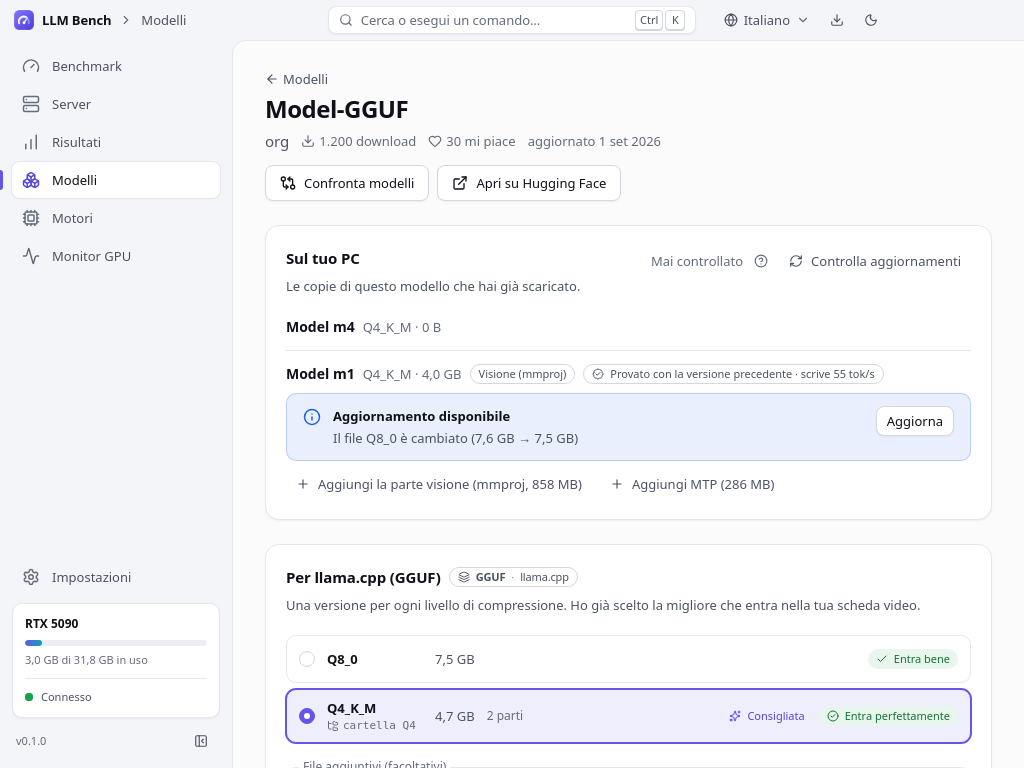
Test case: model page: what the PC already has › "Sul tuo PC": the copies of this repo, their update, a result of the previous version; checks this repo only
Check: the text "Model m1" is shown, box x1=286 y1=363 x2=355 y2=385
Check: the text "Visione (mmproj)" is shown, box x1=470 y1=364 x2=575 y2=384
Click the button "Controlla aggiornamenti" at (875, 261), box x1=779 y1=246 x2=971 y2=276
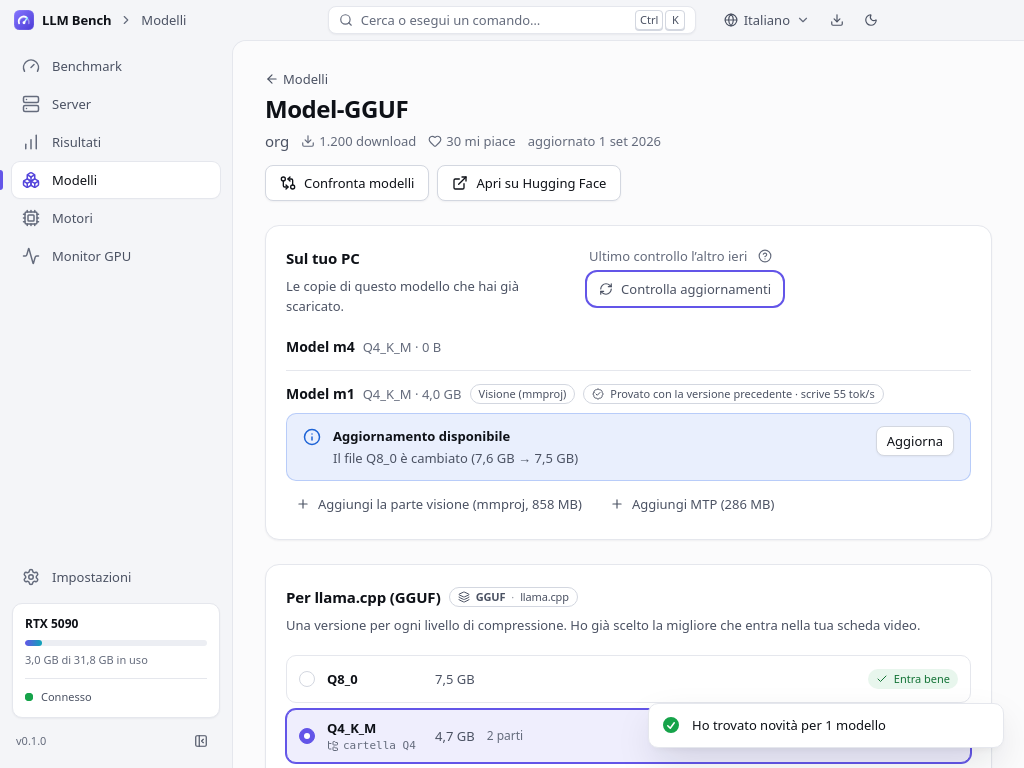
Check: the text "Ho trovato novità per 1 modello" is shown, box x1=692 y1=716 x2=886 y2=735
